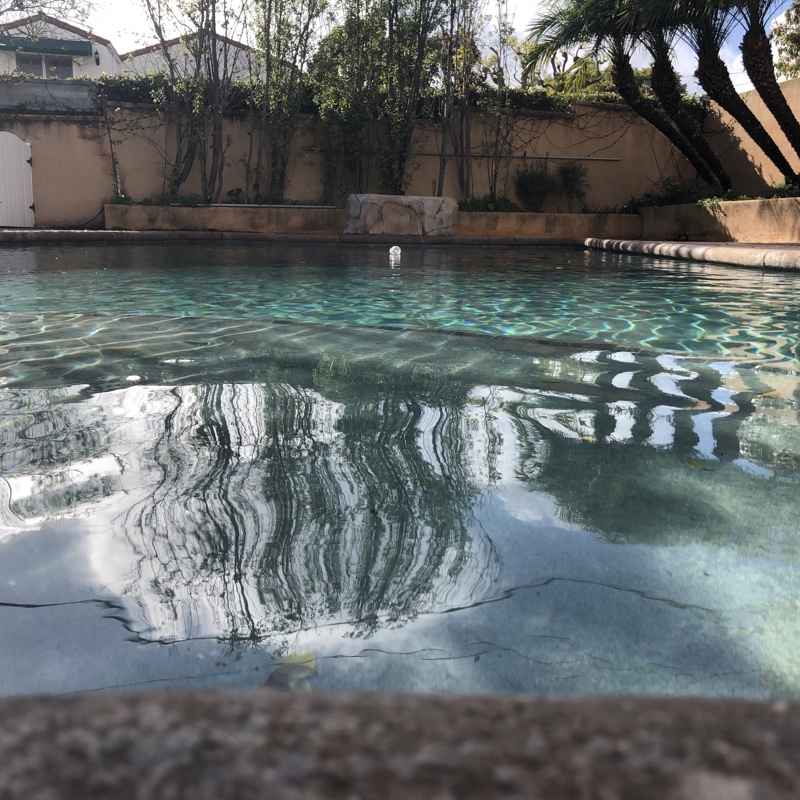Plastic Bottle: (386, 242, 400, 260)
